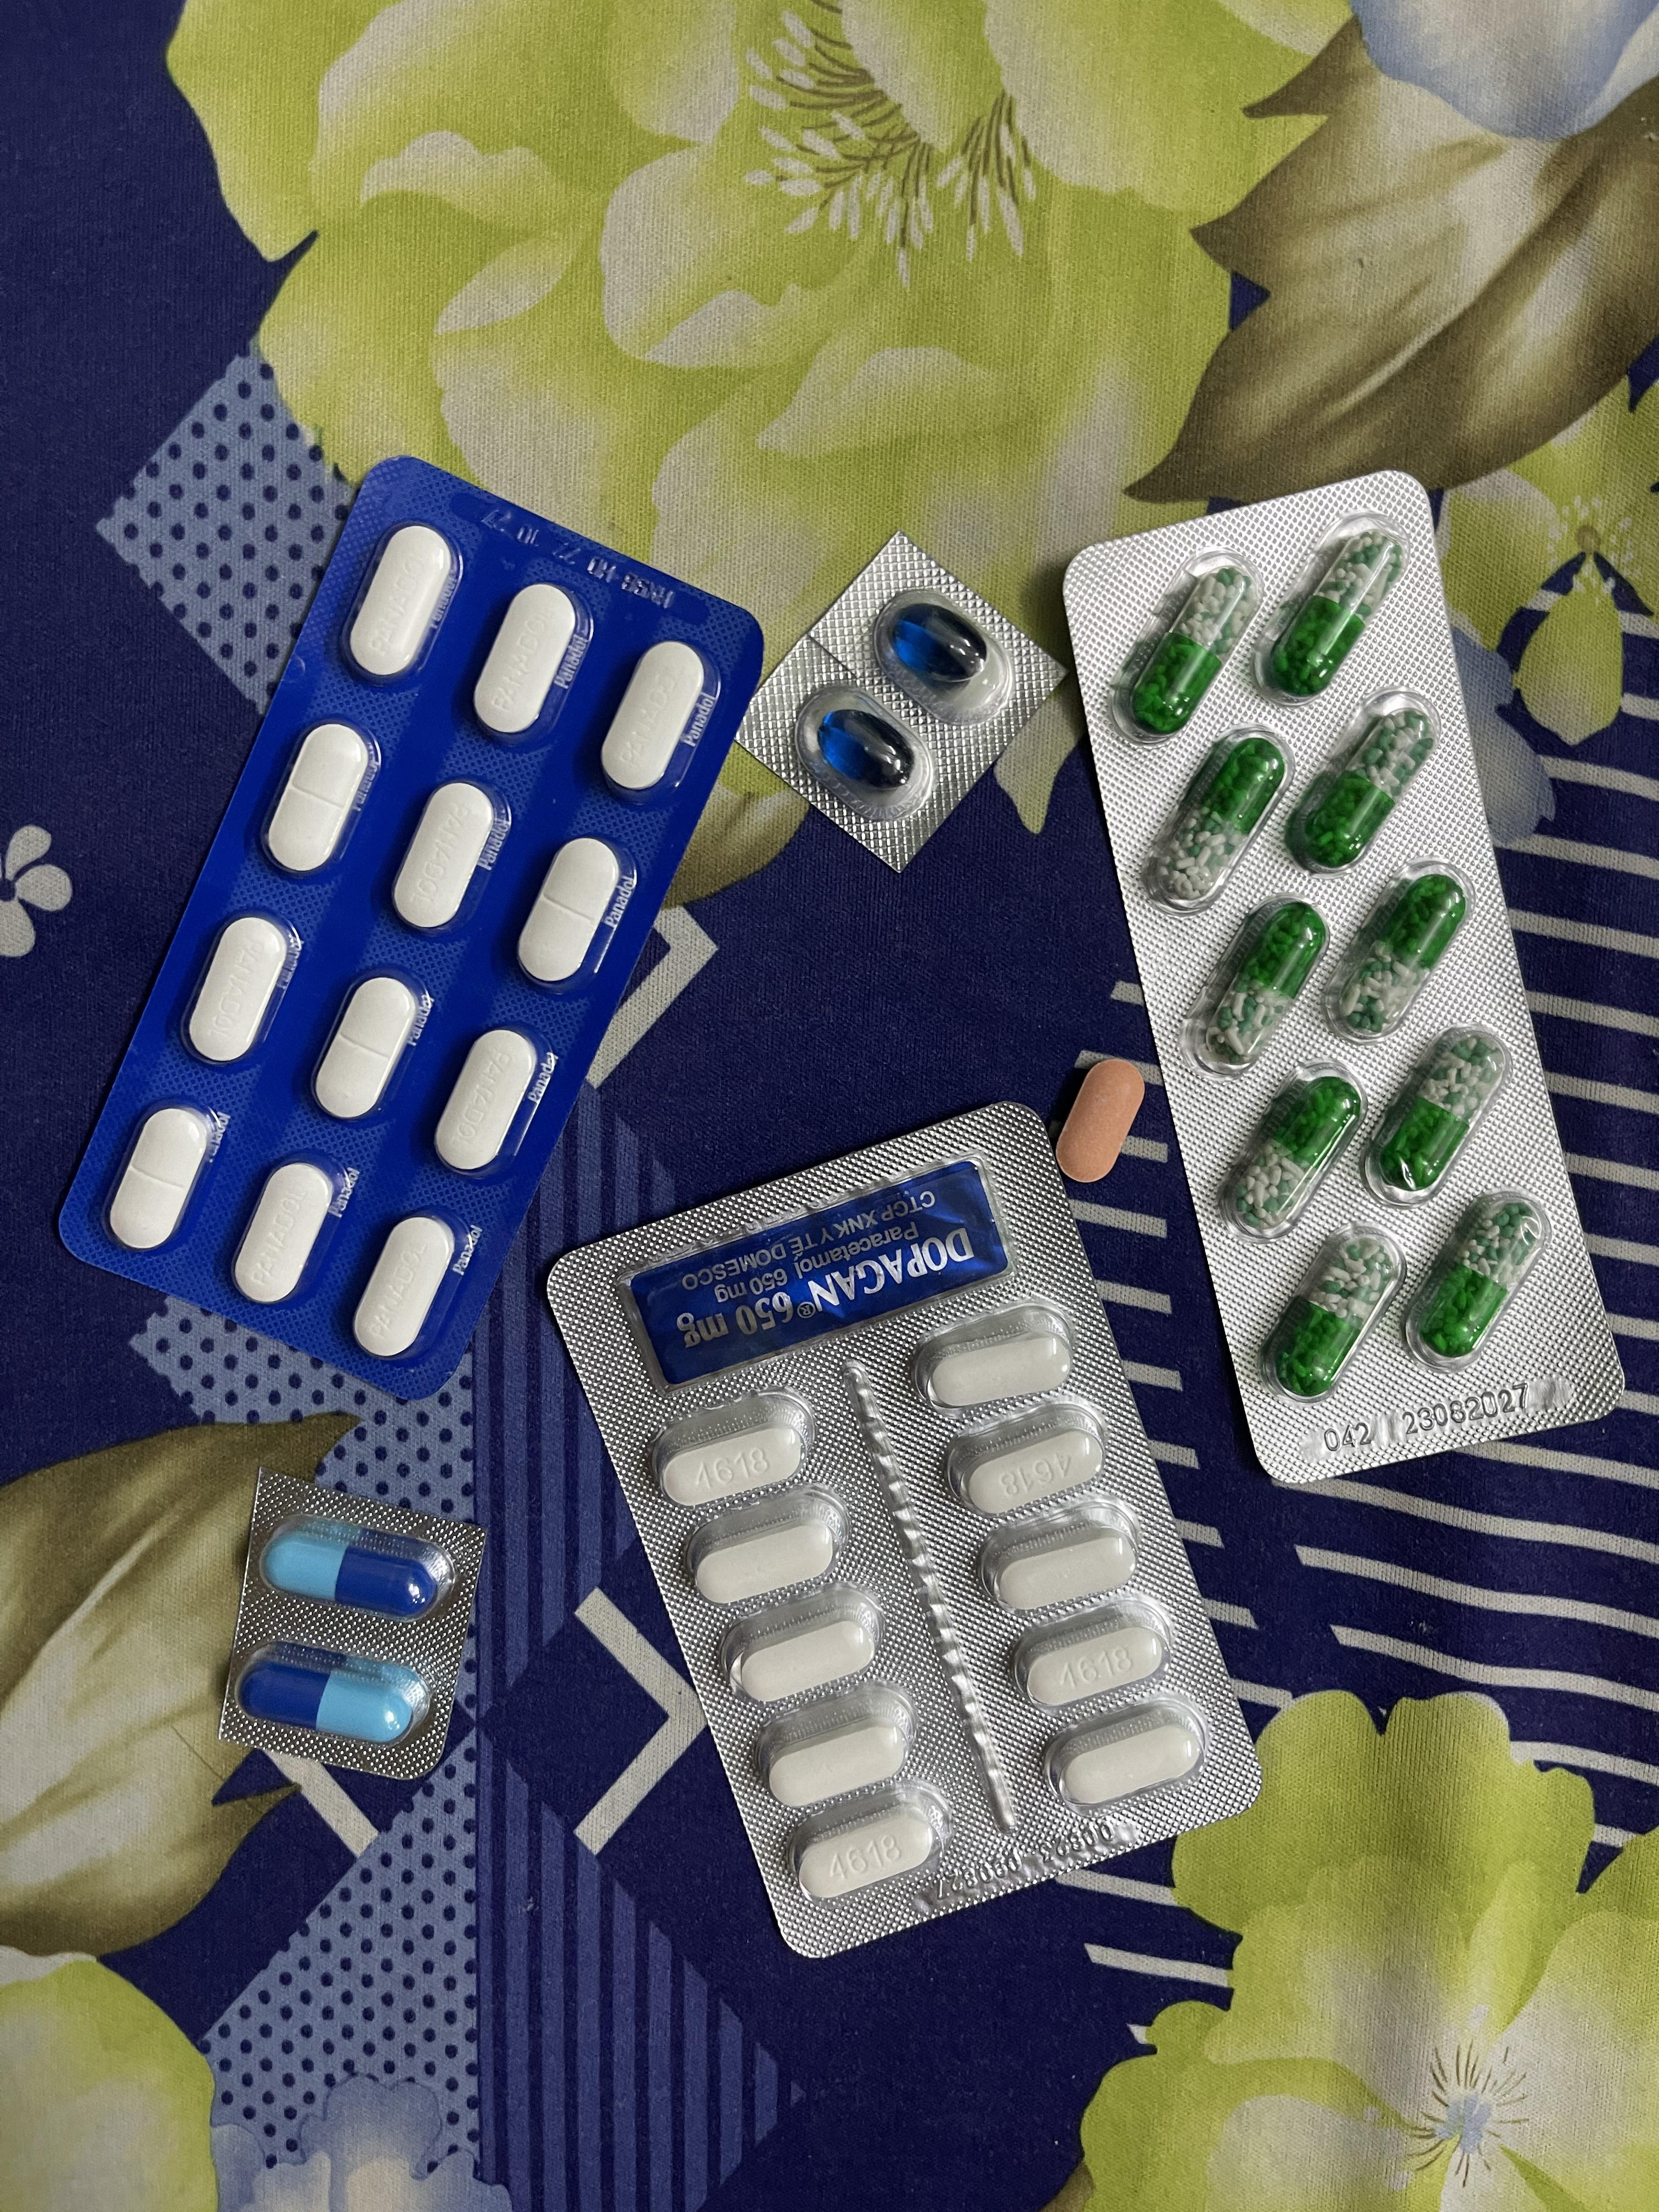Lincomyxin_500mg: (821, 707, 915, 789), (892, 604, 988, 683)
Loratadine_10mg: (1054, 1059, 1143, 1183)
Paracetamol_350mg: (345, 524, 458, 683), (261, 723, 375, 880), (472, 582, 584, 740), (599, 643, 711, 801), (390, 780, 504, 934), (185, 913, 293, 1066), (436, 1028, 545, 1177), (312, 974, 422, 1122), (518, 836, 624, 986), (232, 1158, 340, 1305), (108, 1103, 214, 1251), (352, 1217, 458, 1360)
Paracetamol_500mg: (758, 1684, 915, 1806), (941, 1404, 1107, 1519), (1009, 1590, 1173, 1705), (650, 1385, 809, 1503), (978, 1500, 1143, 1613), (688, 1484, 845, 1601), (723, 1583, 878, 1698), (796, 1803, 938, 1905), (1058, 1719, 1195, 1806), (925, 1331, 1066, 1409)
Paracetamol_650mg: (1335, 874, 1471, 1045), (1370, 1026, 1506, 1193), (1199, 906, 1328, 1075), (1297, 714, 1432, 873), (1232, 1068, 1363, 1231), (1157, 737, 1286, 899), (1269, 1233, 1398, 1395), (1274, 531, 1403, 693), (1134, 566, 1255, 730), (1419, 1204, 1542, 1359)
pill: (232, 1639, 437, 1745), (256, 1517, 455, 1618)
